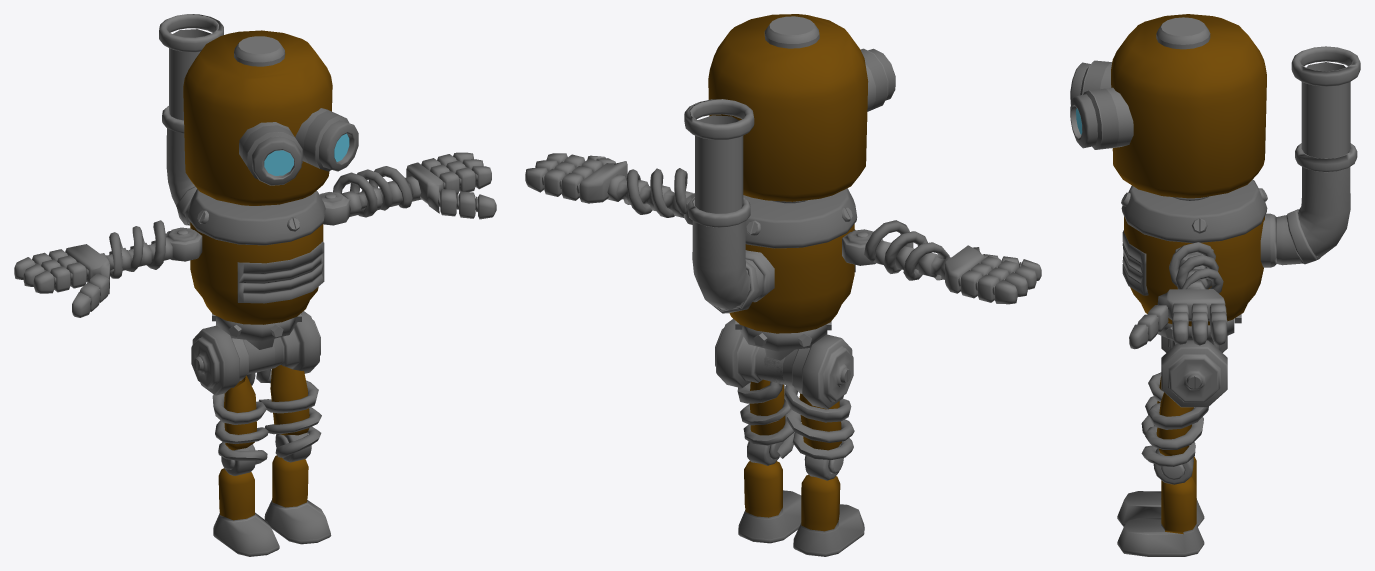
Rendered from Basic_Shooter_Enemy.fbx.
3 renders of one model, left to right at view 1: azimuth 30°, elevation 25°; view 2: azimuth 150°, elevation 25°; view 3: azimuth 270°, elevation 25°, orthographic. The views are drawn at different scales.
Visible parts, largest first — view 1: Basic_Shooter; view 2: Basic_Shooter; view 3: Basic_Shooter.
Part boxes in pixels (bbox=[...]): Basic_Shooter: bbox=[14, 14, 496, 556]; Basic_Shooter: bbox=[525, 14, 1041, 556]; Basic_Shooter: bbox=[1070, 14, 1360, 556].
Bounding box in the file's own units: 355 × 358 × 186.
